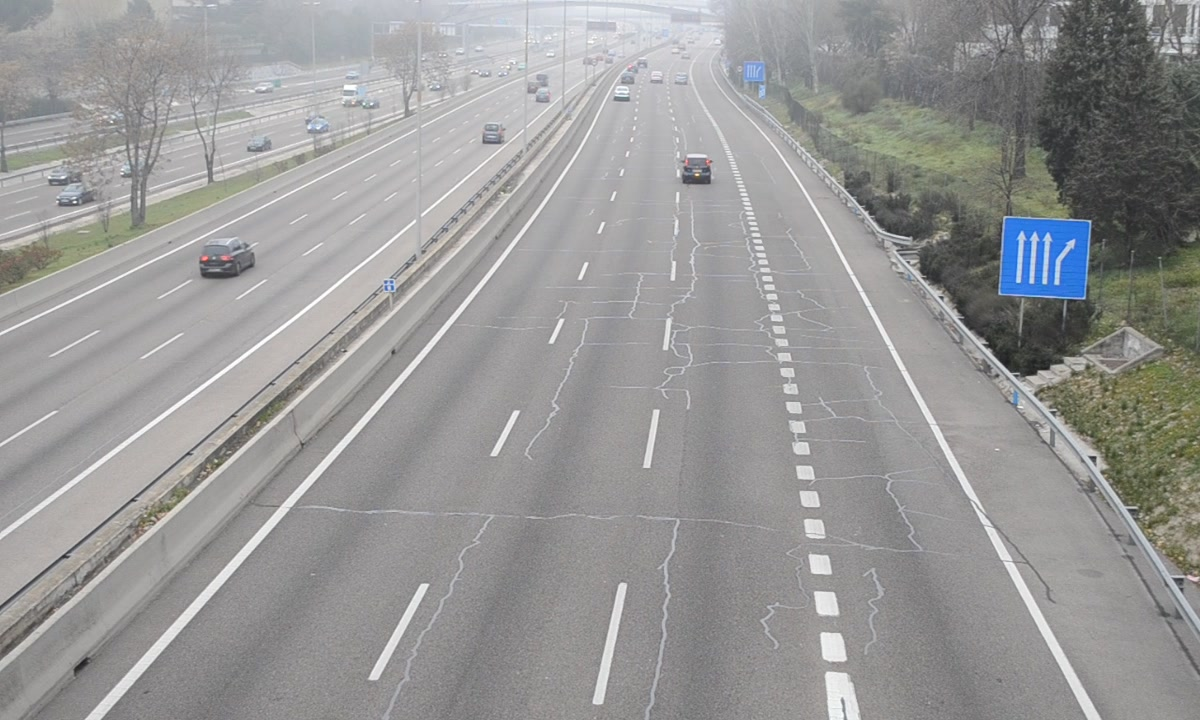car: (681, 153, 714, 187)
